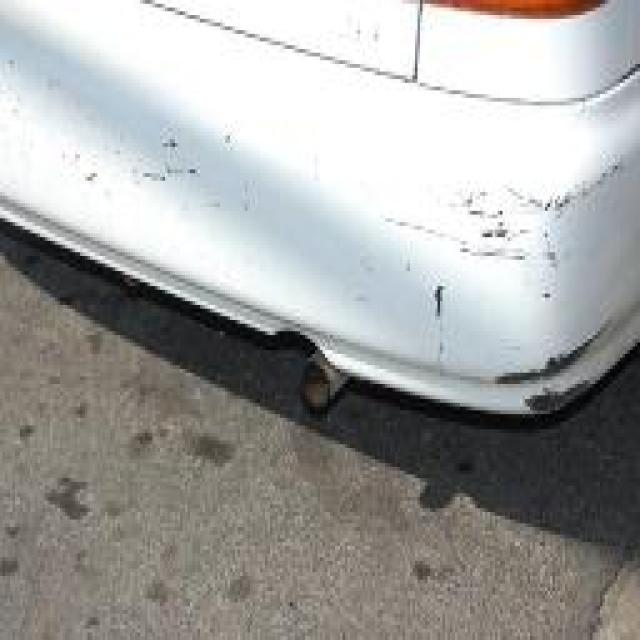Bumper: (8, 0, 640, 444)
